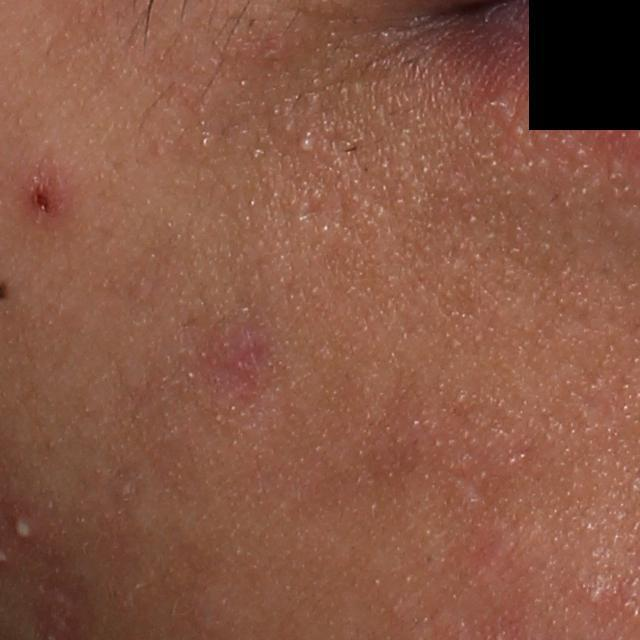papule: (23, 162, 67, 219)
pustule: (11, 515, 37, 544), (296, 131, 316, 156)
